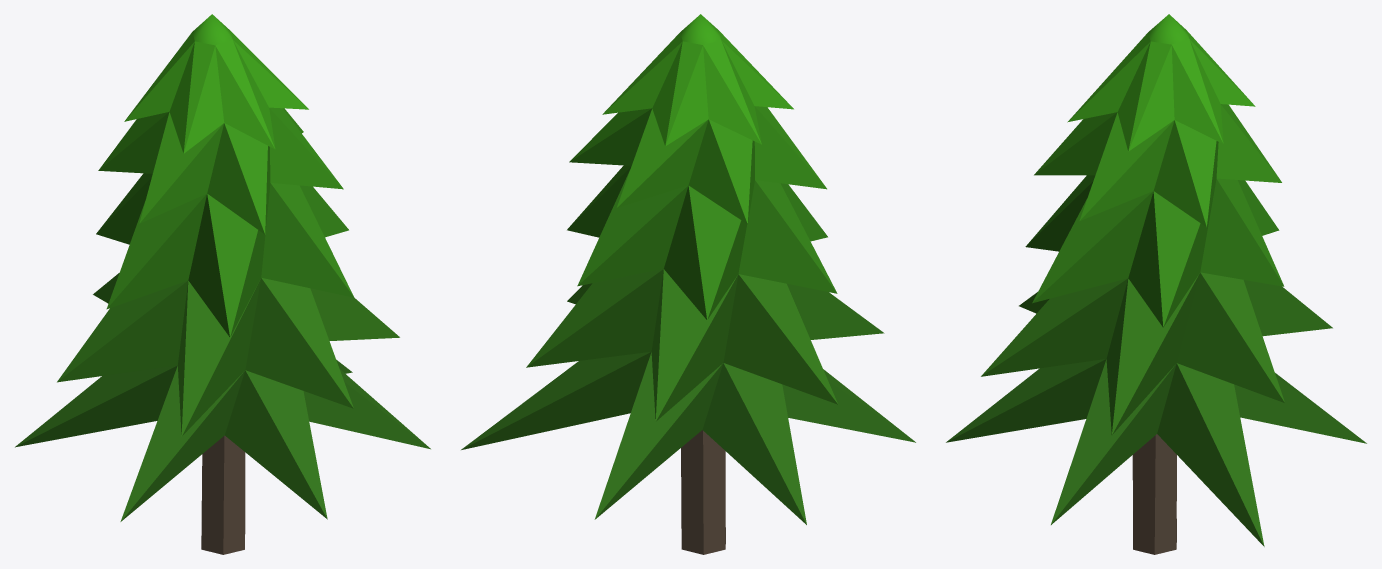
File: Tree02.fbx
3 renders of one model, left to right at view 1: azimuth 30°, elevation 25°; view 2: azimuth 150°, elevation 25°; view 3: azimuth 270°, elevation 25°, orthographic.
Visible parts, largest first — view 1: tree02; view 2: tree02; view 3: tree02.
Boxes of the visible parts, bbox=[...] form: tree02: bbox=[15, 14, 430, 554]; tree02: bbox=[461, 14, 915, 554]; tree02: bbox=[946, 14, 1366, 554].
Size of the model in its own units: 6.96 by 10.29 by 7.45.
Materials: 1 (1 with a texture image).
